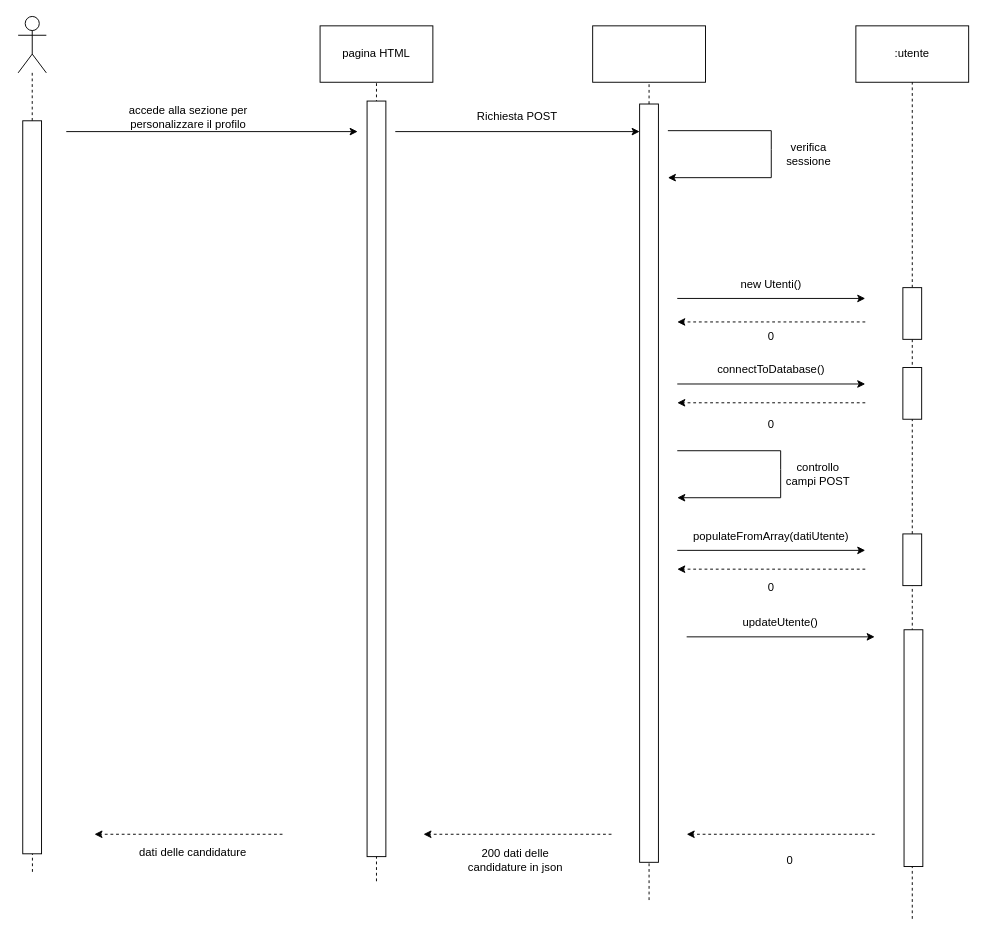
Image size: 986x936. Some labels were removed from this diagram. The shapes that lost their labels are listed below. From the top down, each one's box as (x1, y1, x2, y2) in pixels, then its label:
(17, 16, 46, 73): Utente
(592, 25, 705, 82): controller personalizza profilo
